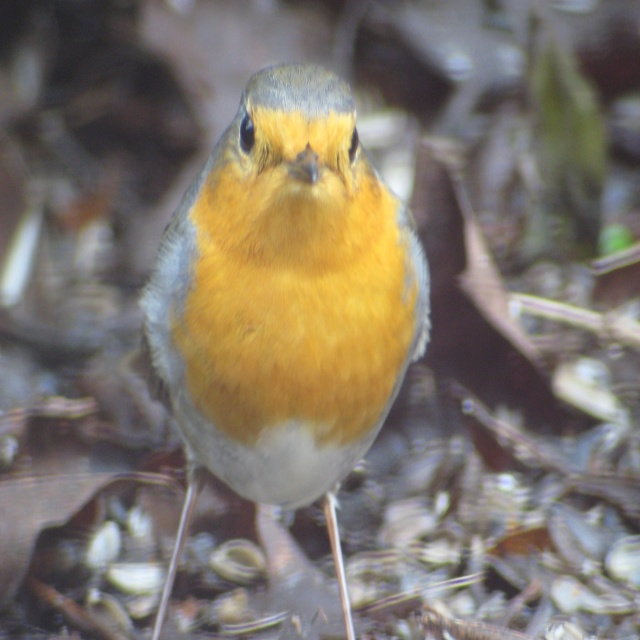Canary: (130, 61, 434, 639)
